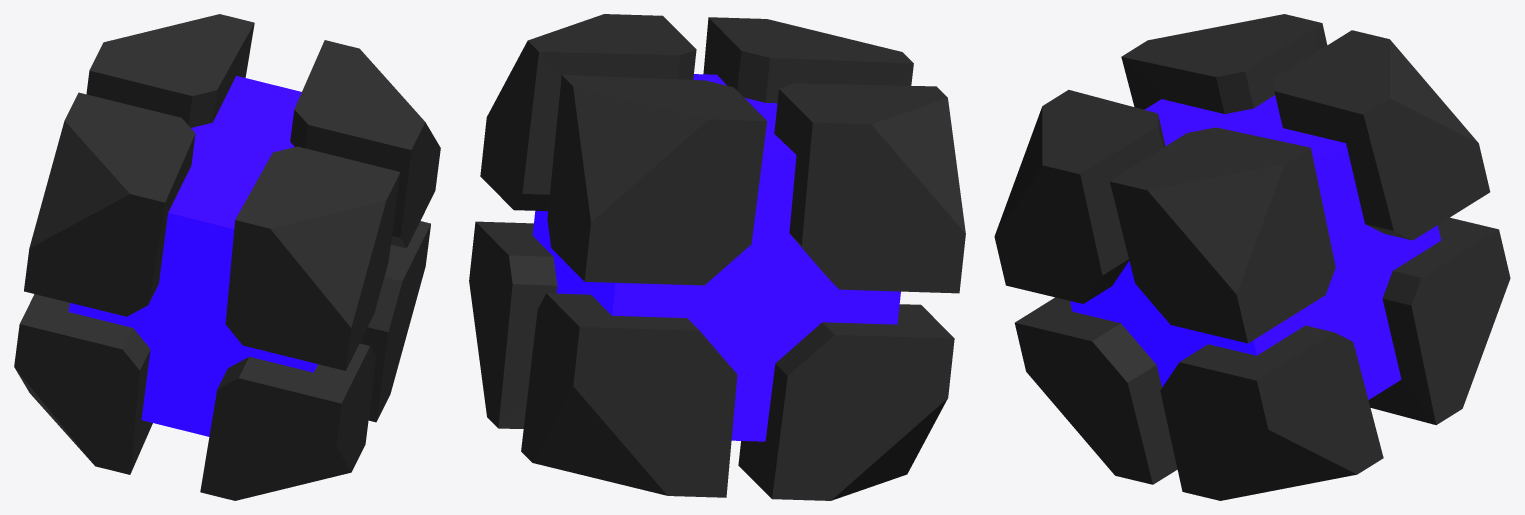
The model's file is physical-pack.glb.
The picture shows the model from 3 angles, left to right: view 1: azimuth 30°, elevation 25°; view 2: azimuth 150°, elevation 25°; view 3: azimuth 270°, elevation 25°; orthographic projection. The views are drawn at different scales.
Parts seen in each view (by area): view 1: Cube.021; view 2: Cube.021; view 3: Cube.021.
Boxes of the visible parts, x1,y1,x2,y2 form: Cube.021: (14,14,440,500); Cube.021: (469,14,965,500); Cube.021: (994,14,1510,500).
Size of the model in its own units: 4.8 by 4.04 by 5.
1 material, 1 textured.
